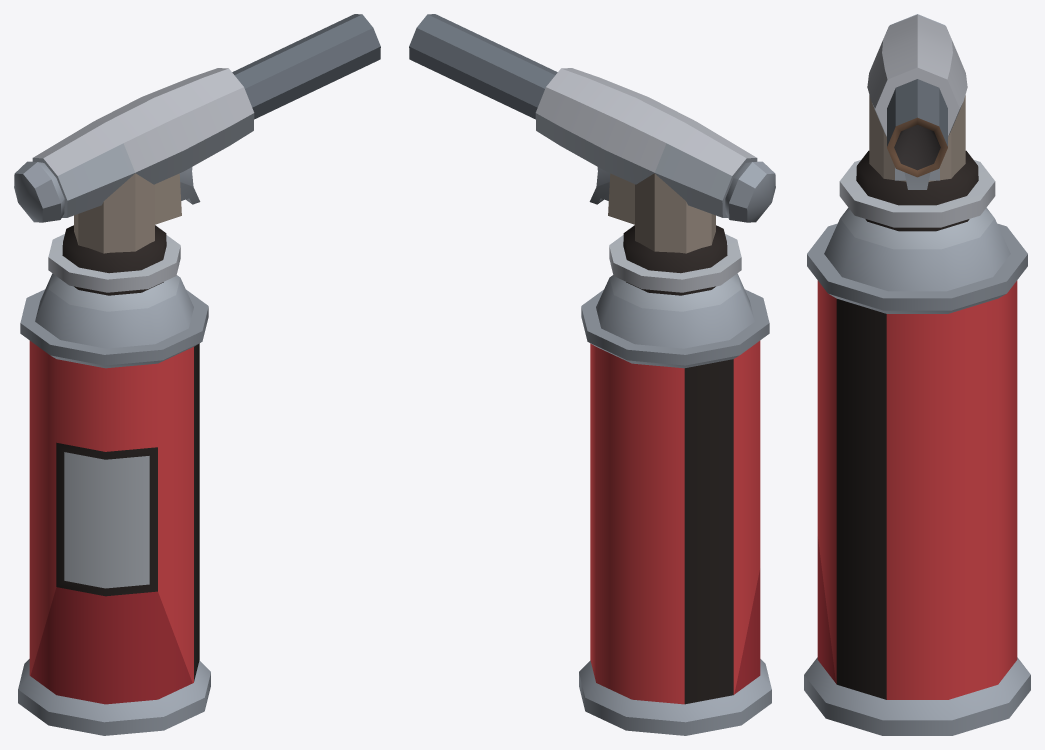
File: fogareiro_macarico_pacote.glb
The picture shows the model from 3 angles, left to right: view 1: azimuth 30°, elevation 25°; view 2: azimuth 150°, elevation 25°; view 3: azimuth 270°, elevation 25°; orthographic projection. The views are drawn at different scales.
Visible parts, largest first — view 1: fogareiro_macarico_pacote; view 2: fogareiro_macarico_pacote; view 3: fogareiro_macarico_pacote.
Part boxes in pixels (bbox=[...]): fogareiro_macarico_pacote: bbox=[14, 14, 380, 735]; fogareiro_macarico_pacote: bbox=[409, 14, 775, 735]; fogareiro_macarico_pacote: bbox=[804, 14, 1030, 735].
Bounding box in the file's own units: 0.1658 × 0.2771 × 0.08.
1 material, 1 textured.
